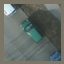car: (20, 19, 44, 44)
